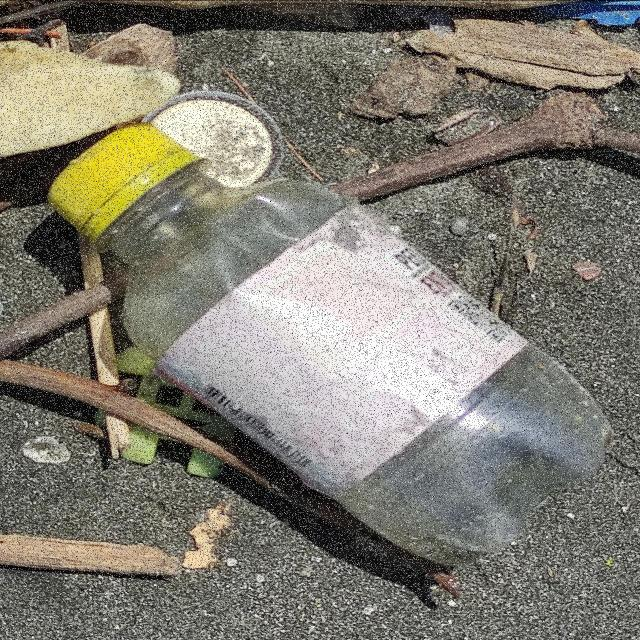plastic_waste: (47, 122, 612, 568)
